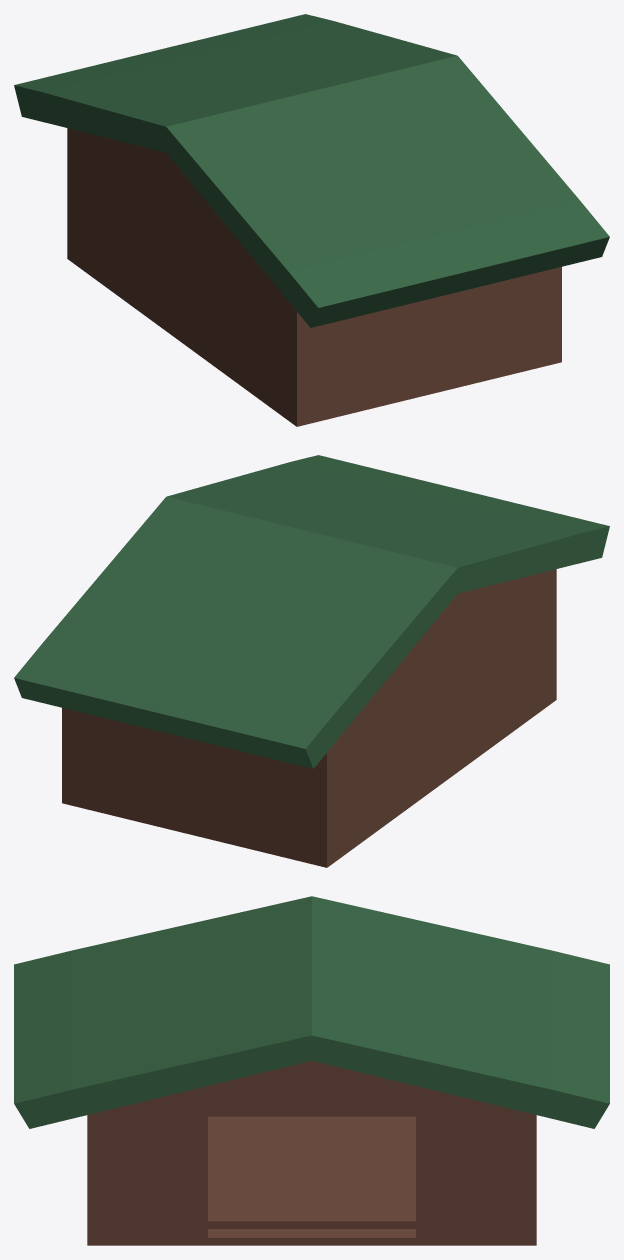
File: Hus.fbx
3 renders of one model, top to bottom at view 1: azimuth 30°, elevation 25°; view 2: azimuth 150°, elevation 25°; view 3: azimuth 270°, elevation 25°, orthographic. The views are drawn at different scales.
Parts seen in each view (by area): view 1: Cube; view 2: Cube; view 3: Cube.
Boxes of the visible parts, left/top/right/bottom form: Cube: left=14, top=14, right=609, bottom=426; Cube: left=14, top=455, right=609, bottom=867; Cube: left=14, top=896, right=609, bottom=1245.
Size of the model in its own units: 550 by 397 by 995.
